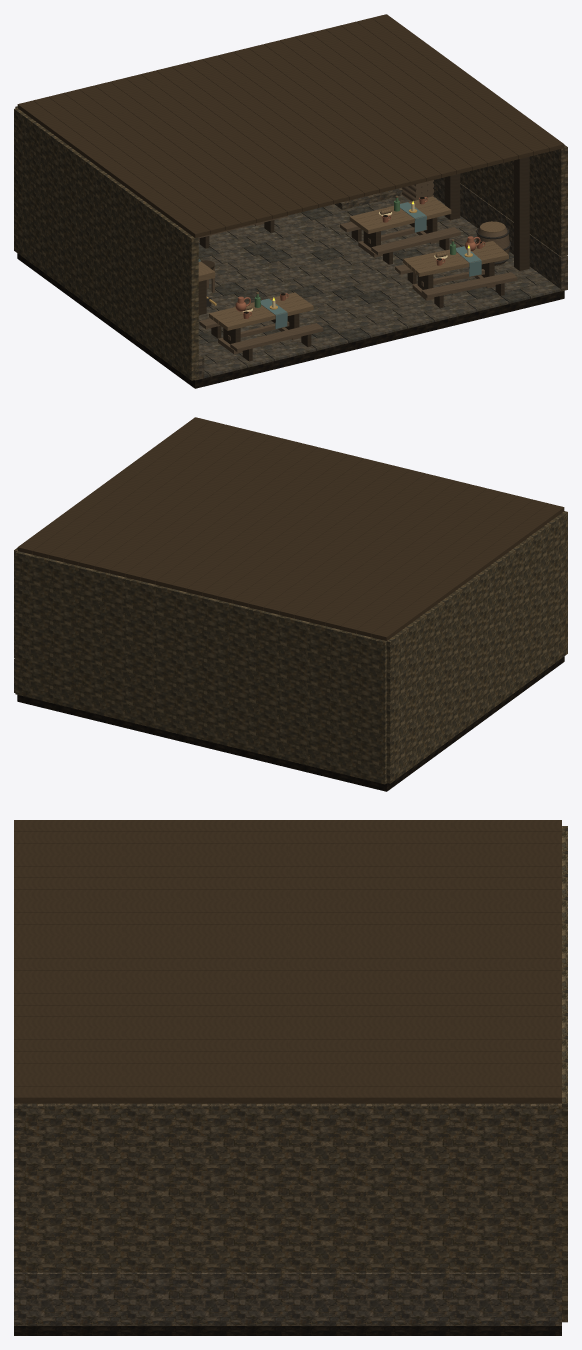
Rendered from tavern-common-room-v1.glb.
3 renders of one model, top to bottom at view 1: azimuth 30°, elevation 25°; view 2: azimuth 150°, elevation 25°; view 3: azimuth 270°, elevation 25°, orthographic. The views are drawn at different scales.
Visible parts, largest first — view 1: ceilingWood, plaster, flagstone, oak, rightWall, darkOak, cutWood, soot, slate, stone, cloth, pottery; view 2: plaster, ceilingWood, soot; view 3: ceilingWood, rightWall, stone, soot, plaster.
Part boxes in pixels (x1=…): ceilingWood: x1=17, y1=14, x2=564, y2=237; plaster: x1=14, y1=106, x2=198, y2=380; flagstone: x1=198, y1=195, x2=560, y2=376; oak: x1=198, y1=180, x2=517, y2=354; rightWall: x1=460, y1=145, x2=567, y2=256; darkOak: x1=198, y1=156, x2=529, y2=361; cutWood: x1=198, y1=195, x2=508, y2=330; soot: x1=17, y1=197, x2=564, y2=388; slate: x1=196, y1=206, x2=529, y2=380; stone: x1=195, y1=177, x2=567, y2=380; cloth: x1=198, y1=202, x2=481, y2=328; pottery: x1=235, y1=197, x2=485, y2=318; plaster: x1=15, y1=511, x2=567, y2=784; ceilingWood: x1=17, y1=417, x2=564, y2=640; soot: x1=17, y1=656, x2=564, y2=791; ceilingWood: x1=14, y1=820, x2=561, y2=1103; rightWall: x1=14, y1=1103, x2=561, y2=1272; stone: x1=14, y1=1272, x2=561, y2=1325; soot: x1=14, y1=1326, x2=561, y2=1335; plaster: x1=562, y1=826, x2=567, y2=1322.
Size of the model in its own units: 12.22 by 4.79 by 10.11.
19 materials, 10 textured.
